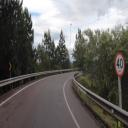speed_limit_40: (114, 51, 125, 77)
